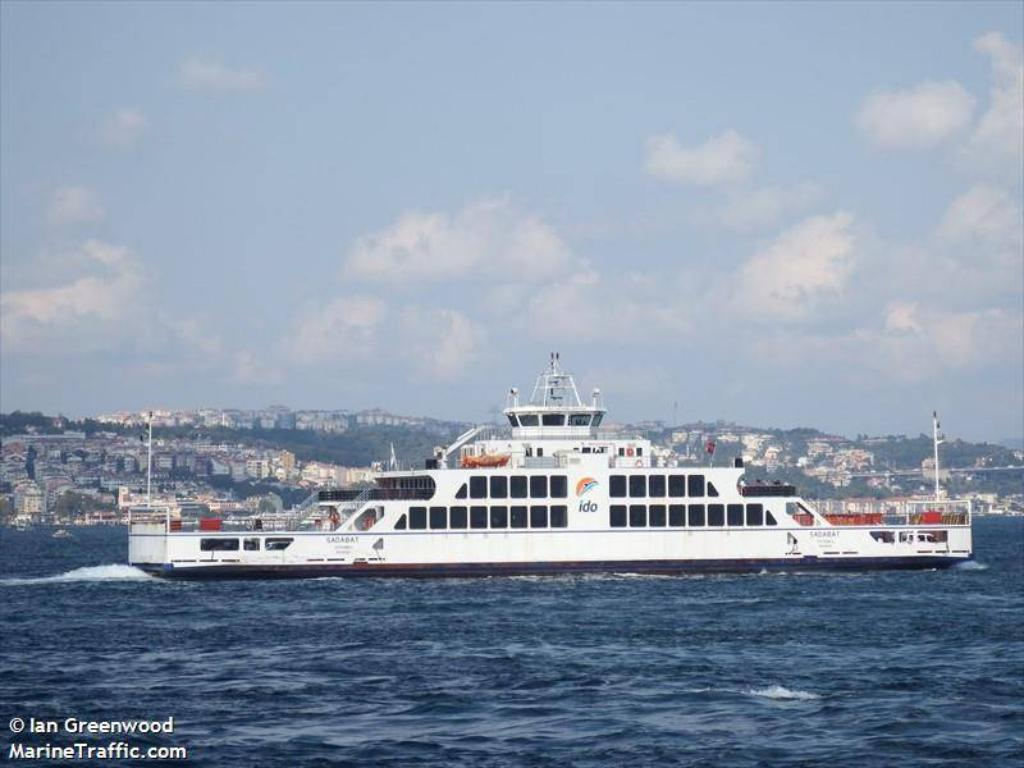PassengerShip: (118, 346, 978, 576)
